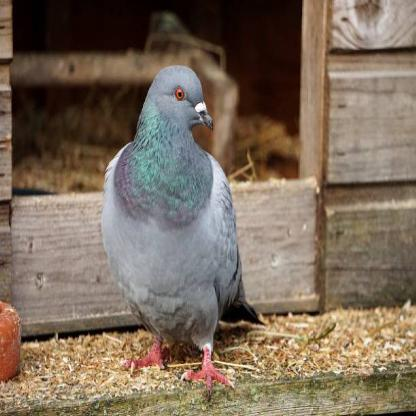Flying Rat: (110, 63, 240, 392)
